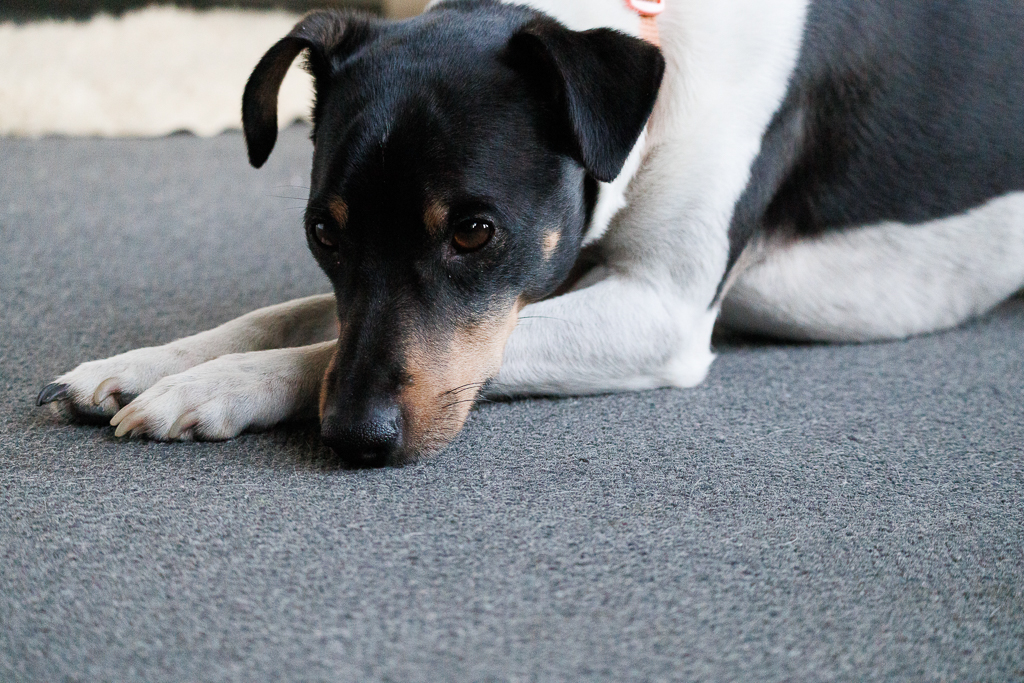Dog: (28, 0, 1024, 487)
